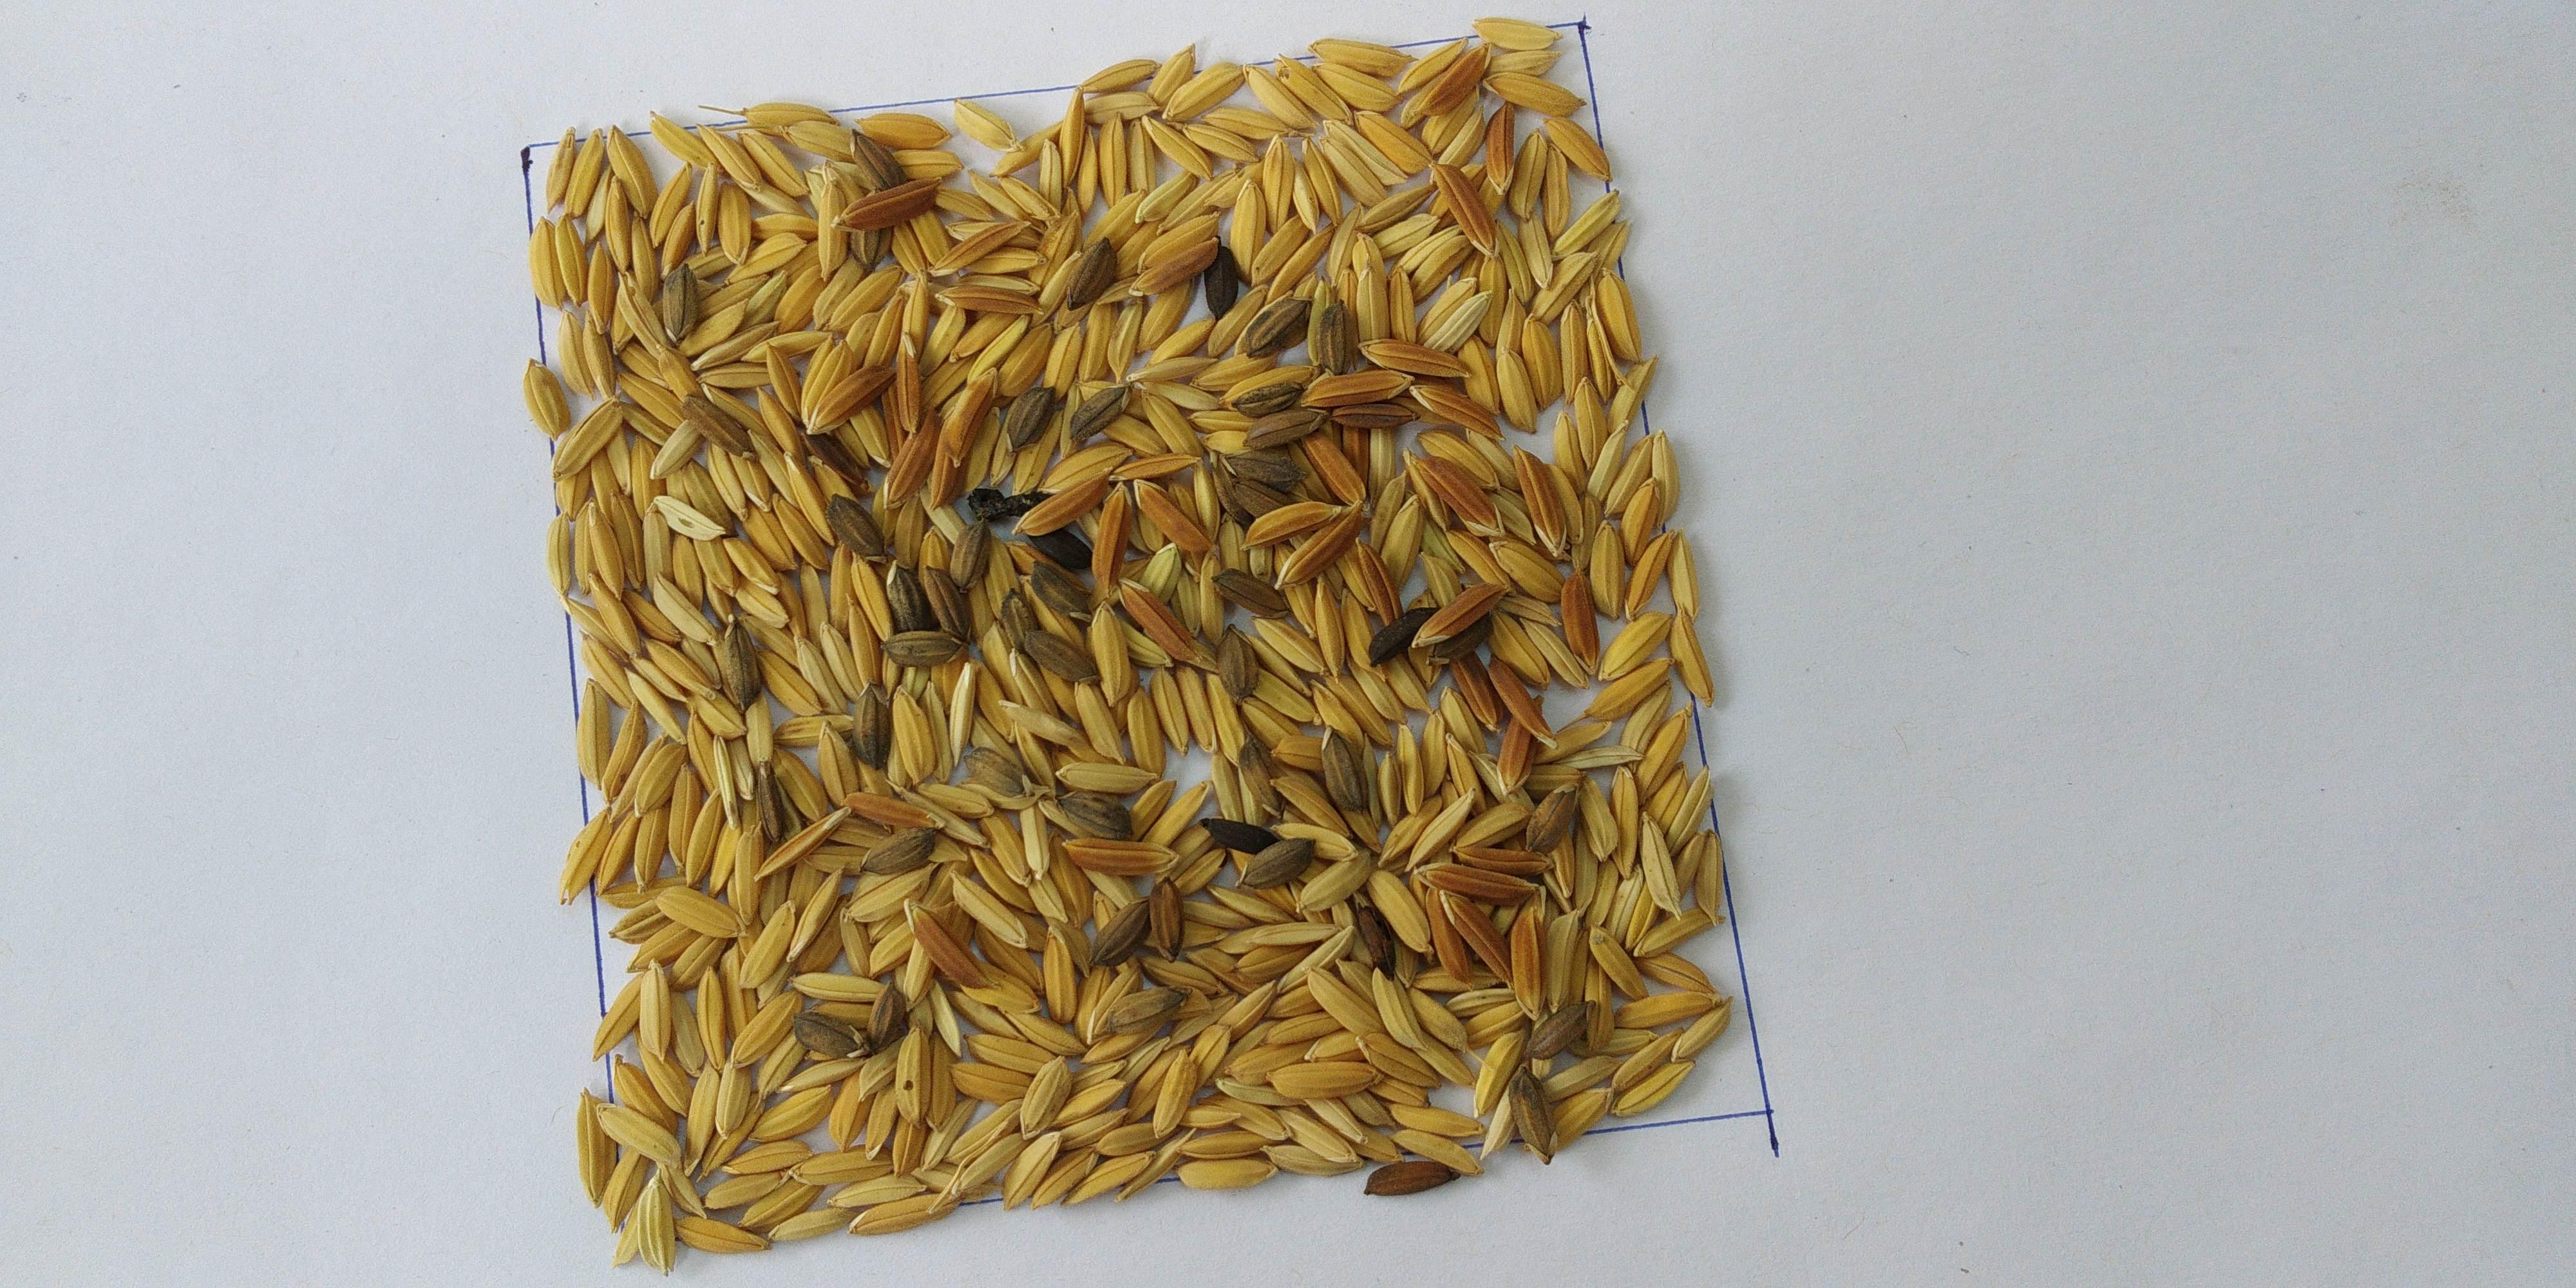impure: (621, 148, 1605, 1129)
